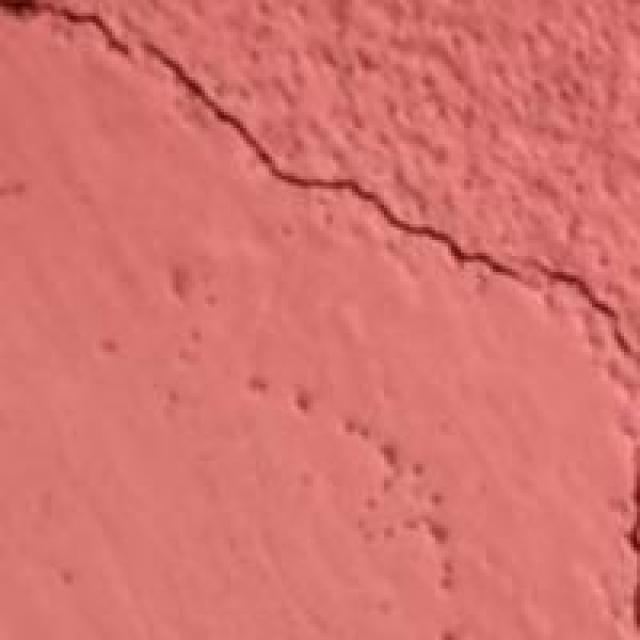Crack: (6, 0, 636, 394)
